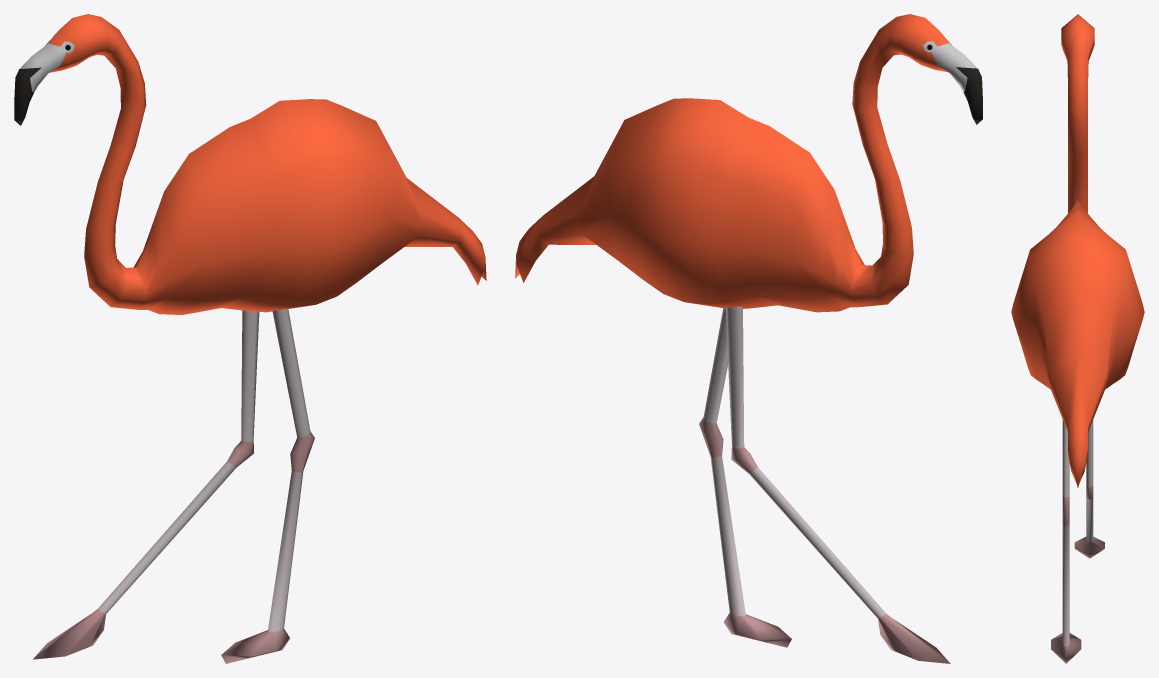
File: Flamenco.fbx
3 views of the same model, side by side, from view 1: azimuth 30°, elevation 25°; view 2: azimuth 150°, elevation 25°; view 3: azimuth 270°, elevation 25° (orthographic). The views are drawn at different scales.
Parts seen in each view (by area): view 1: FlaBody; view 2: FlaBody; view 3: FlaBody.
Boxes of the visible parts, x1=… form: FlaBody: x1=14, y1=14, x2=486, y2=663; FlaBody: x1=515, y1=14, x2=982, y2=663; FlaBody: x1=1011, y1=14, x2=1144, y2=663.
Bounding box in the file's own units: 364 × 499 × 106.
